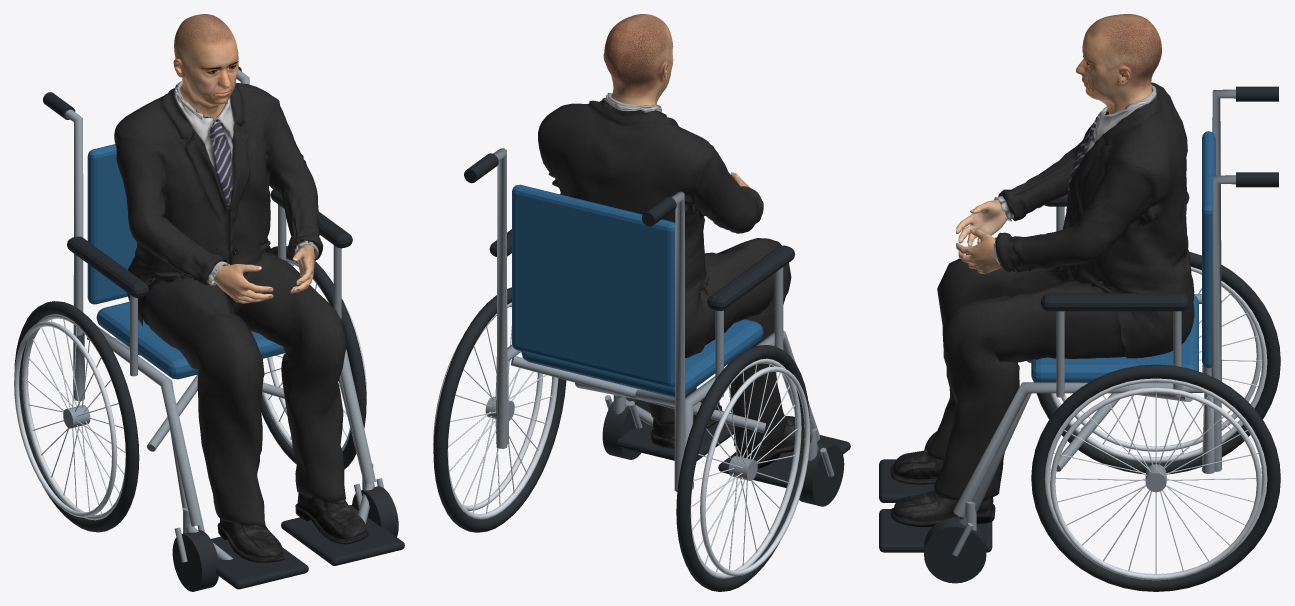
The model's file is wheelchair-user.glb.
The picture shows the model from 3 angles, left to right: view 1: azimuth 30°, elevation 25°; view 2: azimuth 150°, elevation 25°; view 3: azimuth 270°, elevation 25°; orthographic projection. The views are drawn at different scales.
Parts seen in each view (by area): view 1: male_elegantsuit01, Ellis | anatomical body, Wheelchair back upholstery, Rear tire, shoes04, Side frame, Wheelchair seat cushion, Foot plate.001, Rear tire.001, Hand rim, Foot plate, Front caster (+13 smaller); view 2: male_elegantsuit01, Wheelchair back upholstery, Rear tire, Rear tire.001, Ellis | anatomical body, Wheelchair seat cushion, Back upright and push handle.001, Hand rim, Back upright and push handle, Rear rim, Arm pad, Front caster (+14 smaller); view 3: male_elegantsuit01, Rear tire.001, Ellis | anatomical body, Rear tire, Hand rim.001, shoes04, Side frame.001, Wheelchair seat cushion, Front caster.001, Arm pad.001, Wheelchair back upholstery, Back upright and push handle.001 (+12 smaller).
Boxes of the visible parts, <box> form: male_elegantsuit01: <box>114,80,347,527</box>; Ellis | anatomical body: <box>173,14,314,303</box>; Wheelchair back upholstery: <box>87,144,136,304</box>; Rear tire: <box>14,301,139,532</box>; shoes04: <box>217,493,368,562</box>; Side frame: <box>73,325,202,526</box>; Wheelchair seat cushion: <box>96,301,286,379</box>; Foot plate.001: <box>281,505,404,565</box>; Rear tire.001: <box>261,246,366,469</box>; Hand rim: <box>14,321,117,517</box>; Foot plate: <box>211,536,308,589</box>; Front caster: <box>172,530,219,591</box>; male_elegantsuit01: <box>538,93,791,447</box>; Wheelchair back upholstery: <box>512,184,675,387</box>; Rear tire: <box>676,345,809,591</box>; Rear tire.001: <box>433,287,566,532</box>; Ellis | anatomical body: <box>603,14,750,187</box>; Wheelchair seat cushion: <box>521,319,763,397</box>; Back upright and push handle.001: <box>493,148,507,448</box>; Hand rim: <box>700,366,810,576</box>; Back upright and push handle: <box>671,191,685,491</box>; Rear rim: <box>690,358,801,578</box>; Arm pad: <box>707,245,795,310</box>; Front caster: <box>799,441,844,506</box>; male_elegantsuit01: <box>925,82,1194,501</box>; Rear tire.001: <box>1031,364,1280,591</box>; Ellis | anatomical body: <box>956,14,1161,274</box>; Rear tire: <box>1036,252,1280,474</box>; Hand rim.001: <box>1050,387,1261,580</box>; shoes04: <box>890,449,995,526</box>; Side frame.001: <box>953,382,1214,517</box>; Wheelchair seat cushion: <box>1031,294,1198,382</box>; Front caster.001: <box>924,518,986,583</box>; Arm pad.001: <box>1041,293,1189,311</box>; Wheelchair back upholstery: <box>1202,131,1215,368</box>; Back upright and push handle.001: <box>1211,175,1235,471</box>.
Bounding box in the file's own units: 0.794 × 1.46 × 1.03.
Materials: 12 (7 with a texture image).
